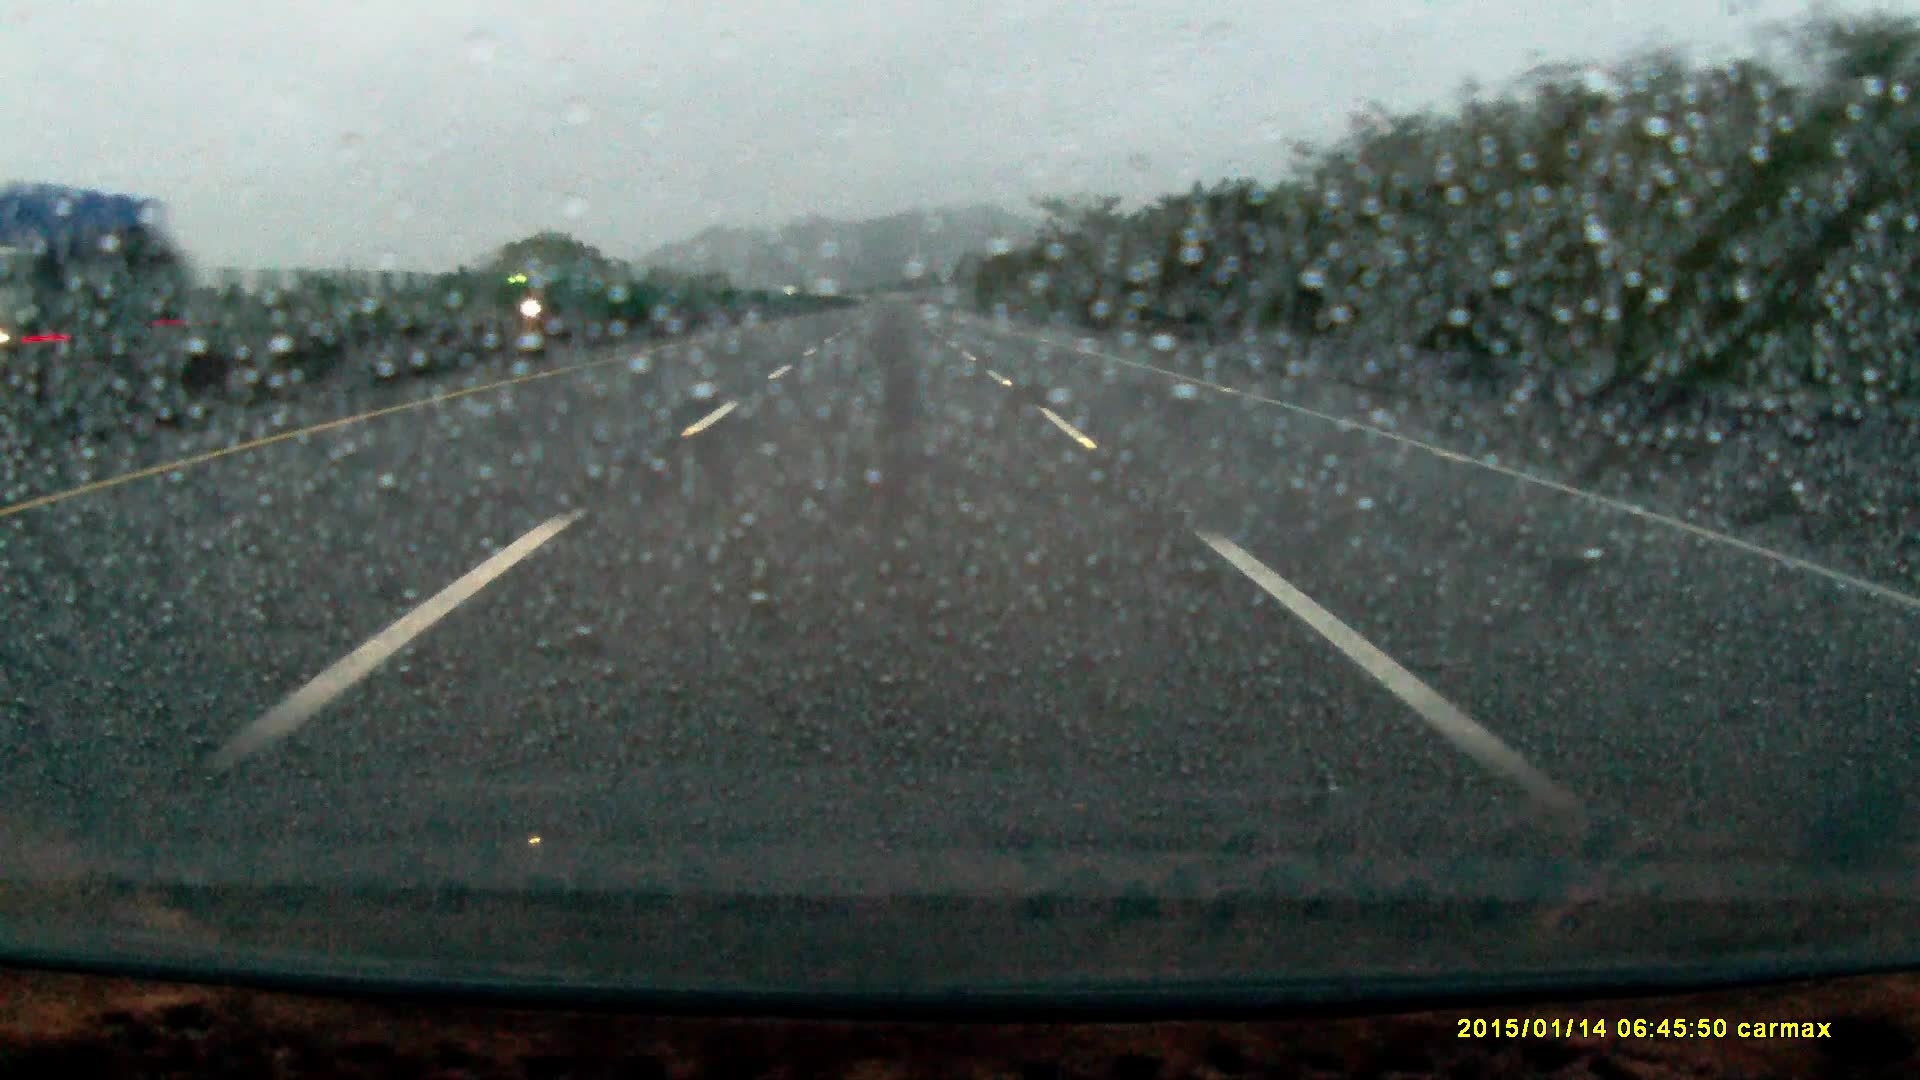vehicle: (1, 190, 164, 369), (488, 261, 595, 334)
